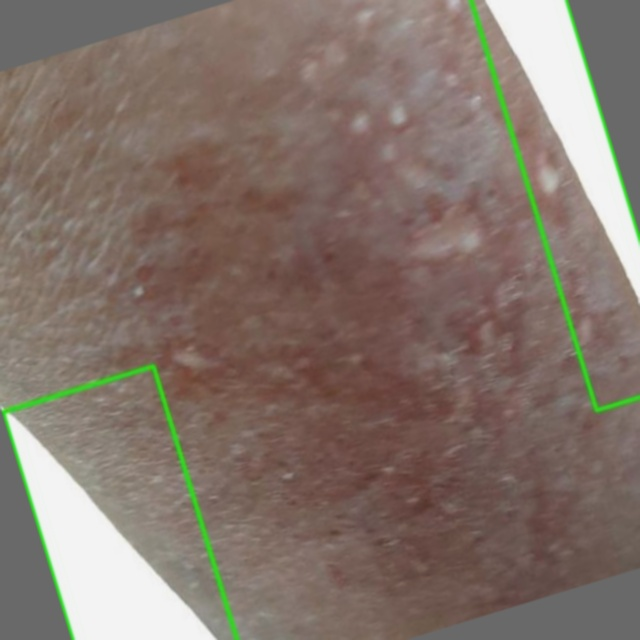Atopic Dermatitis: (471, 0, 639, 410), (2, 365, 238, 639)
